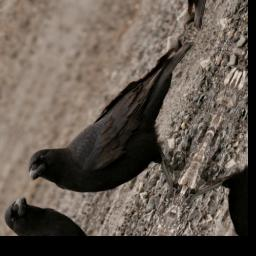Crow: (21, 8, 239, 225)
